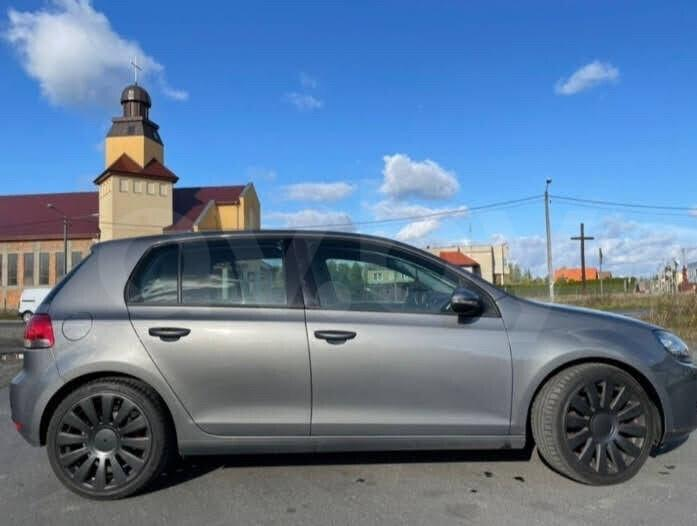Golf_2008-2013: (6, 231, 697, 488)
